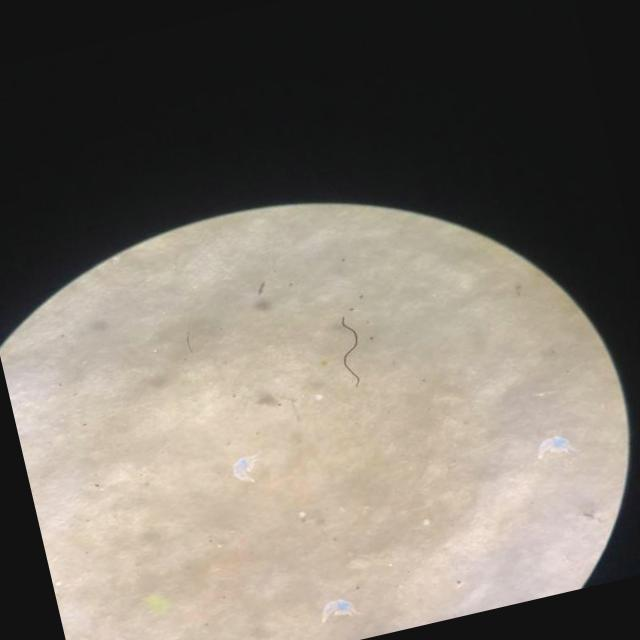fiber: (341, 317, 361, 384)
film: (539, 435, 570, 453), (325, 598, 351, 615), (235, 456, 251, 477)
fragment: (147, 593, 170, 612)
pellet: (299, 510, 307, 519), (424, 517, 431, 524), (316, 393, 321, 397)
